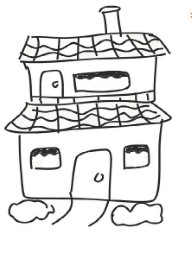chimney: (96, 2, 126, 39)
door: (64, 143, 119, 203), (37, 67, 68, 102)
open_window: (72, 70, 131, 93), (30, 147, 61, 170), (123, 144, 149, 170)
roof: (4, 99, 175, 135), (14, 32, 171, 65)
wall: (17, 122, 162, 202), (22, 55, 156, 103)
